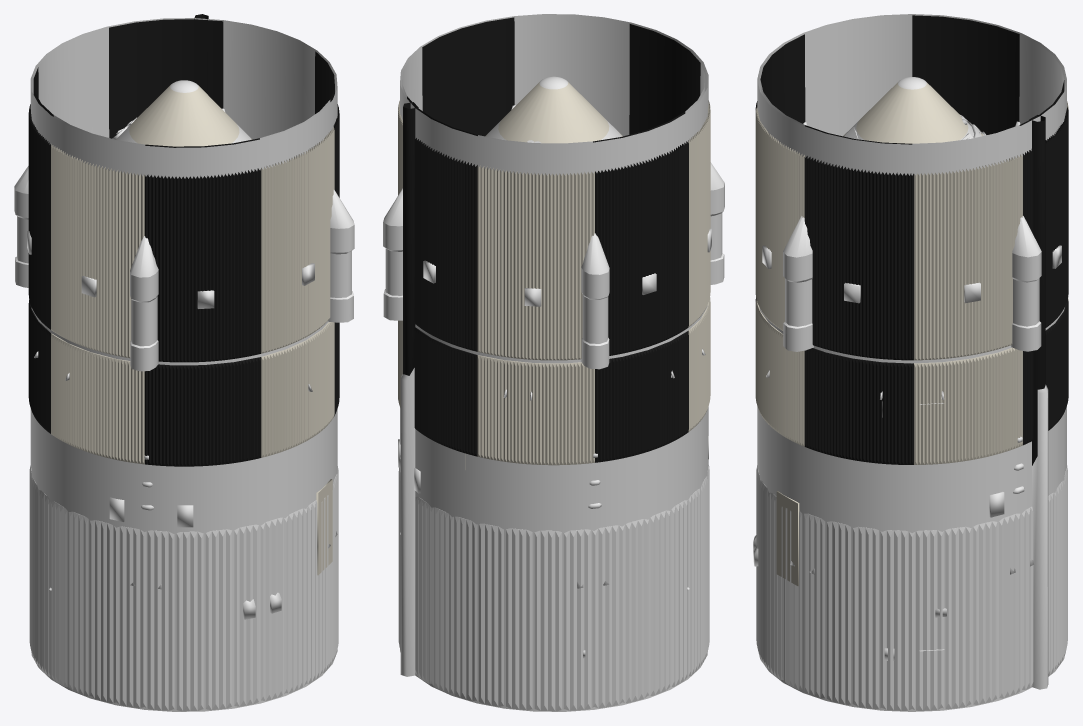
Rendered from RocketParts.fbx.
The picture shows the model from 3 angles, left to right: view 1: azimuth 30°, elevation 25°; view 2: azimuth 150°, elevation 25°; view 3: azimuth 270°, elevation 25°; orthographic projection.
Visible parts, largest first — view 1: FuelTank, Rocket, ControlModule; view 2: FuelTank, Rocket, ControlModule; view 3: FuelTank, Rocket, ControlModule.
Part boxes in pixels (<box>): FuelTank: <box>14,18,354,711</box>; Rocket: <box>33,14,334,527</box>; ControlModule: <box>49,80,337,619</box>; FuelTank: <box>383,14,724,711</box>; Rocket: <box>398,15,708,508</box>; ControlModule: <box>400,76,689,658</box>; FuelTank: <box>755,14,1068,711</box>; Rocket: <box>760,15,1064,517</box>; ControlModule: <box>753,77,1033,660</box>.
Size of the model in its own units: 50.03 by 100 by 50.37.
